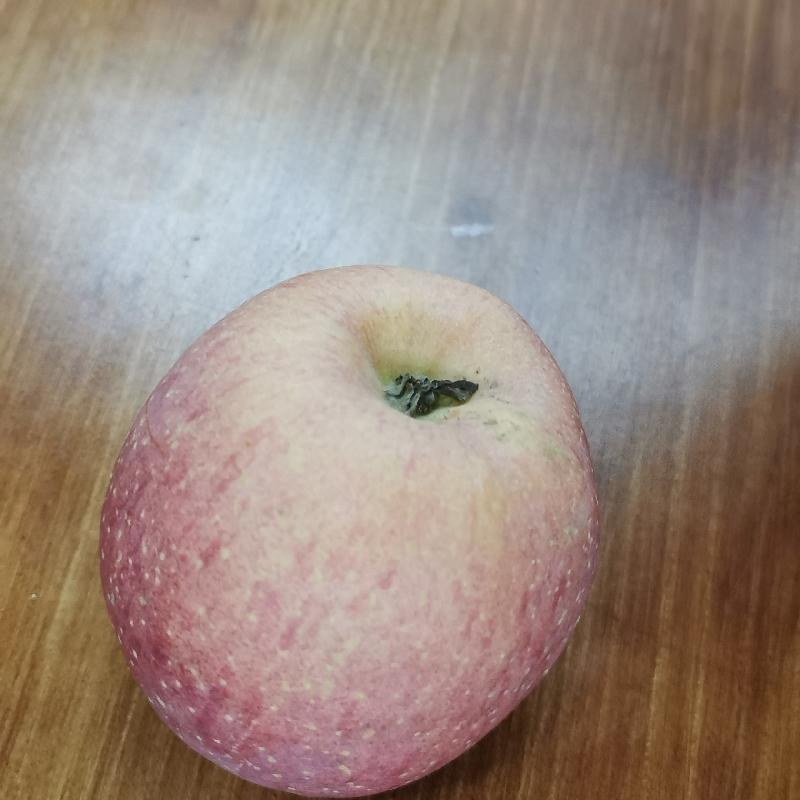apples: (72, 265, 626, 800)
